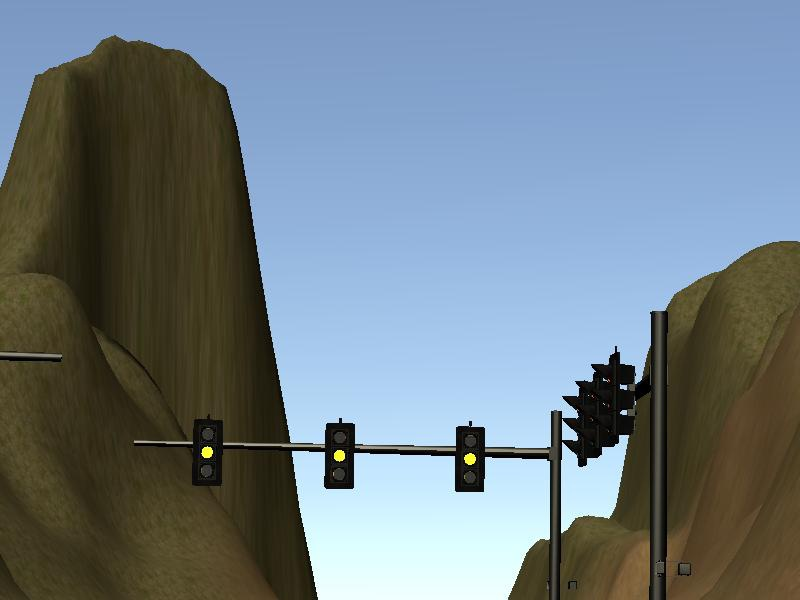yellow_light: (325, 424, 355, 488), (192, 421, 222, 484), (455, 427, 484, 492)
